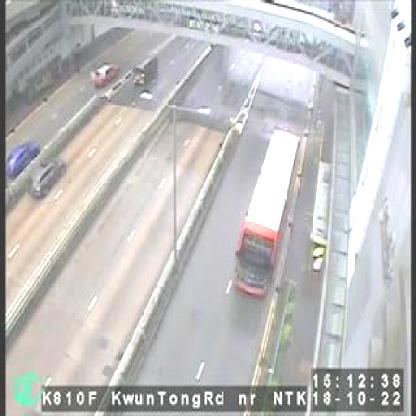Bus: (233, 127, 302, 301)
Car: (31, 158, 66, 200), (7, 136, 39, 179), (134, 57, 159, 89), (92, 61, 119, 87)
